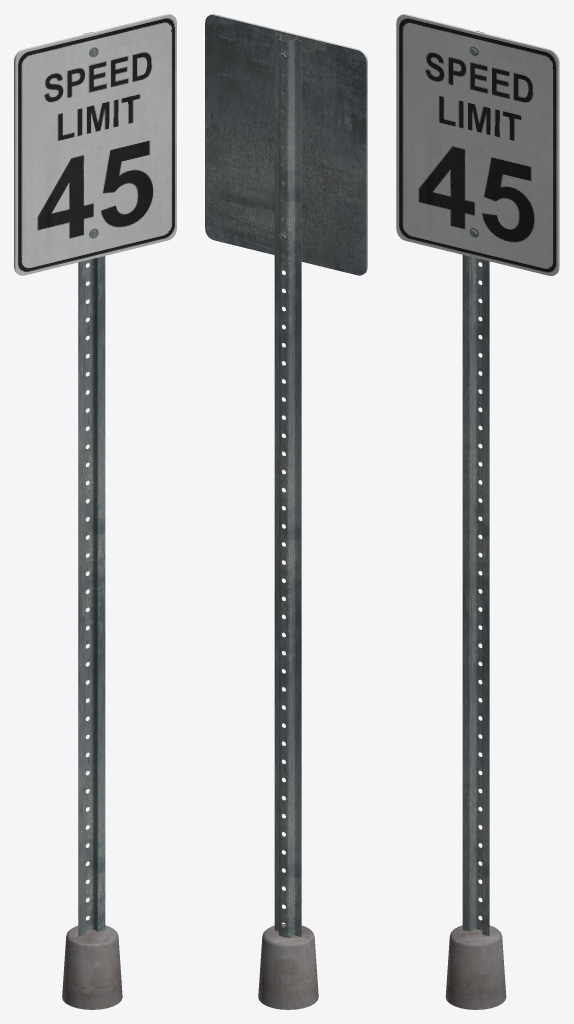
The model's file is speedlimit45_nsoc.obj.
The picture shows the model from 3 angles, left to right: view 1: azimuth 30°, elevation 25°; view 2: azimuth 150°, elevation 25°; view 3: azimuth 330°, elevation 25°; orthographic projection.
Visible parts, largest first — view 1: sign_speed_limit_45; view 2: sign_speed_limit_45; view 3: sign_speed_limit_45.
Boxes of the visible parts, x1,y1,x2,y2 form: sign_speed_limit_45: (14,14,176,1009); sign_speed_limit_45: (205,14,367,1009); sign_speed_limit_45: (396,14,559,1009).
Bounding box in the file's own units: 18 × 103 × 5.84.
3 materials, 3 textured.
